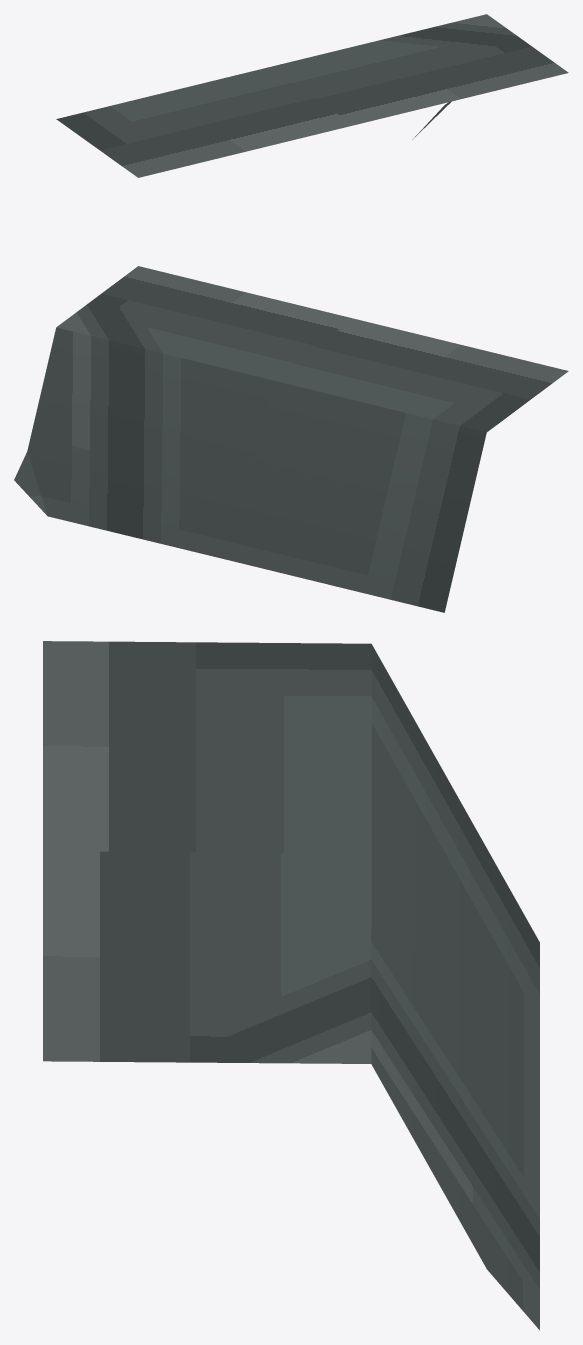
3 views of the same model, one above another, from view 1: azimuth 30°, elevation 25°; view 2: azimuth 150°, elevation 25°; view 3: azimuth 270°, elevation 25° (orthographic). The views are drawn at different scales.
Size of the model in its own units: 1 by 0.3354 by 0.5.
2 materials, 2 textured.
